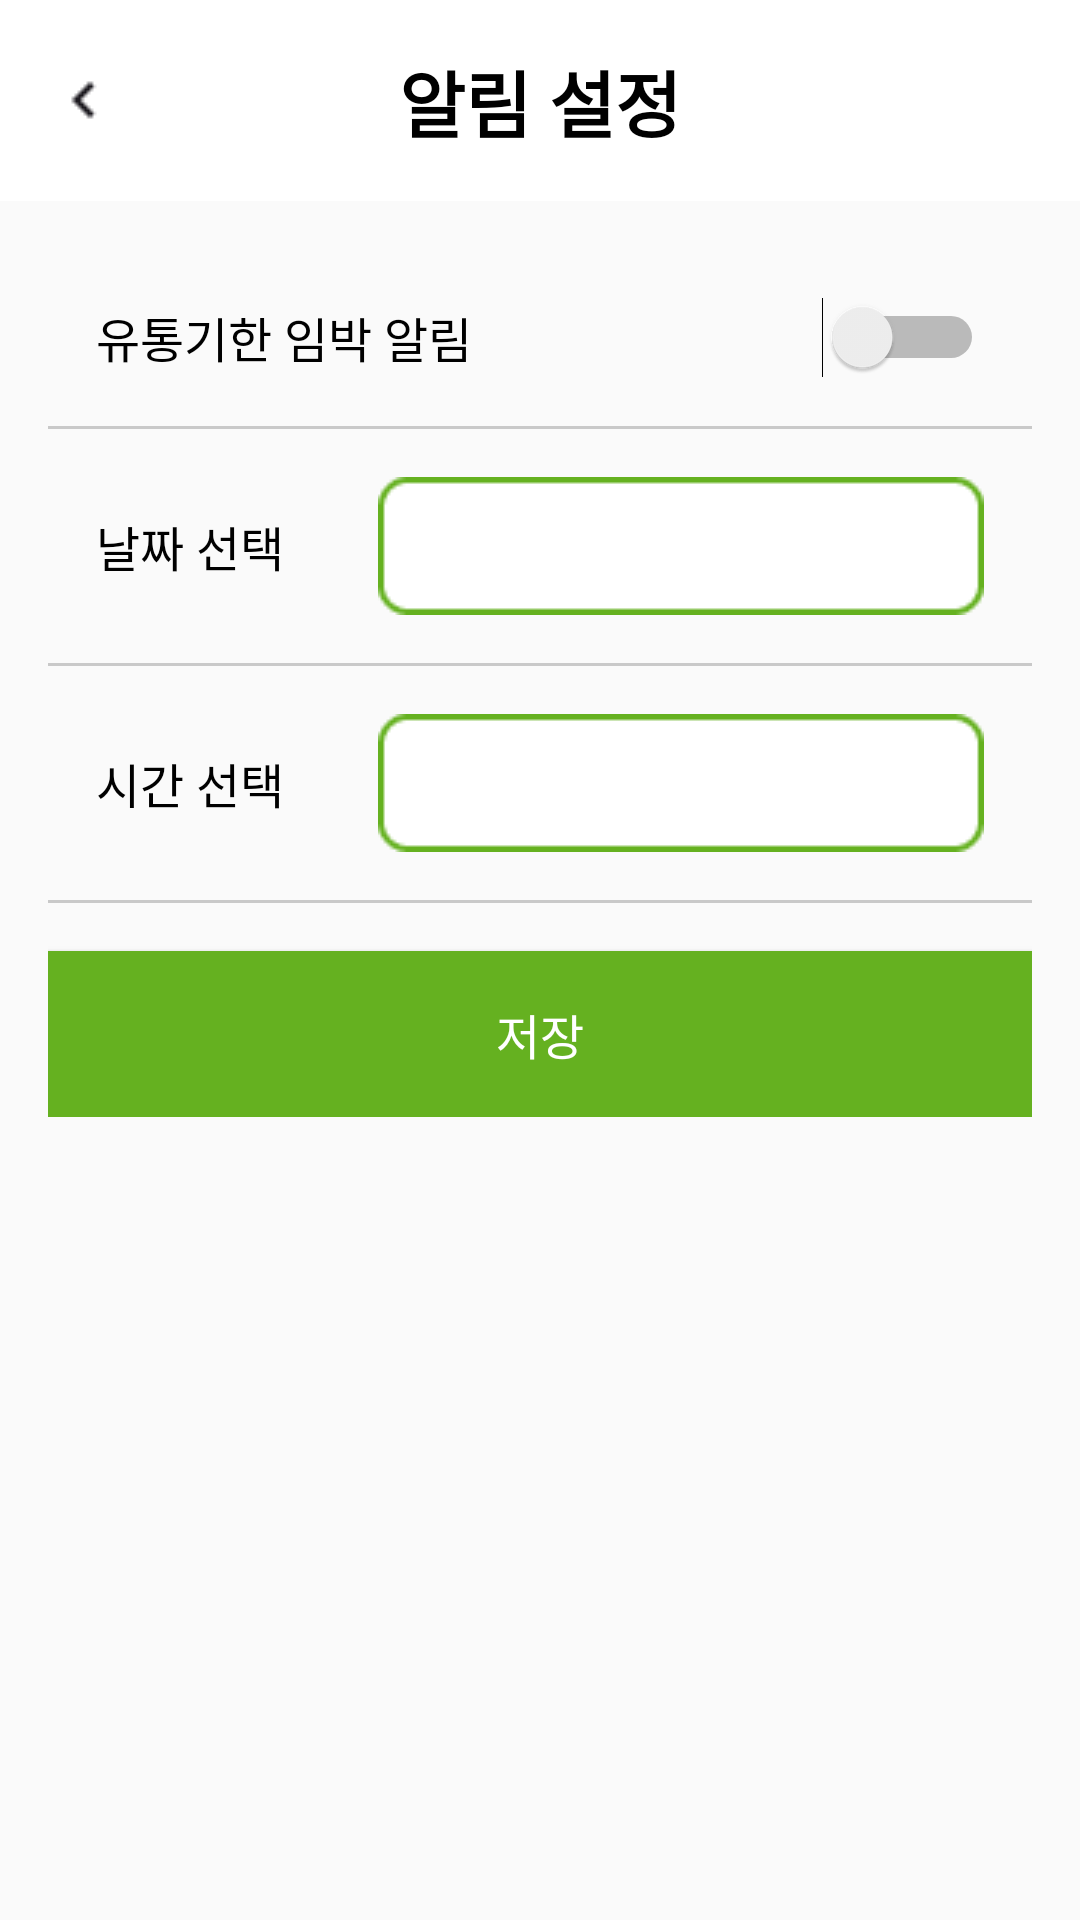

Named icons in this screenshot (1080*1920) and their bounding boxes, (x1, y1, x2, y2):
Back Button: (71, 81, 96, 119)
